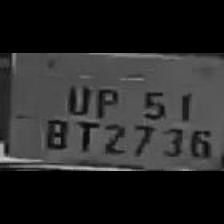1: (172, 85, 196, 121)
2: (96, 120, 126, 156)
3: (156, 122, 184, 158)
5: (138, 84, 168, 119)
6: (184, 124, 212, 160)
7: (127, 121, 154, 157)
B: (40, 114, 70, 150)
P: (90, 81, 122, 117)
T: (71, 116, 99, 152)
U: (61, 77, 91, 115)
